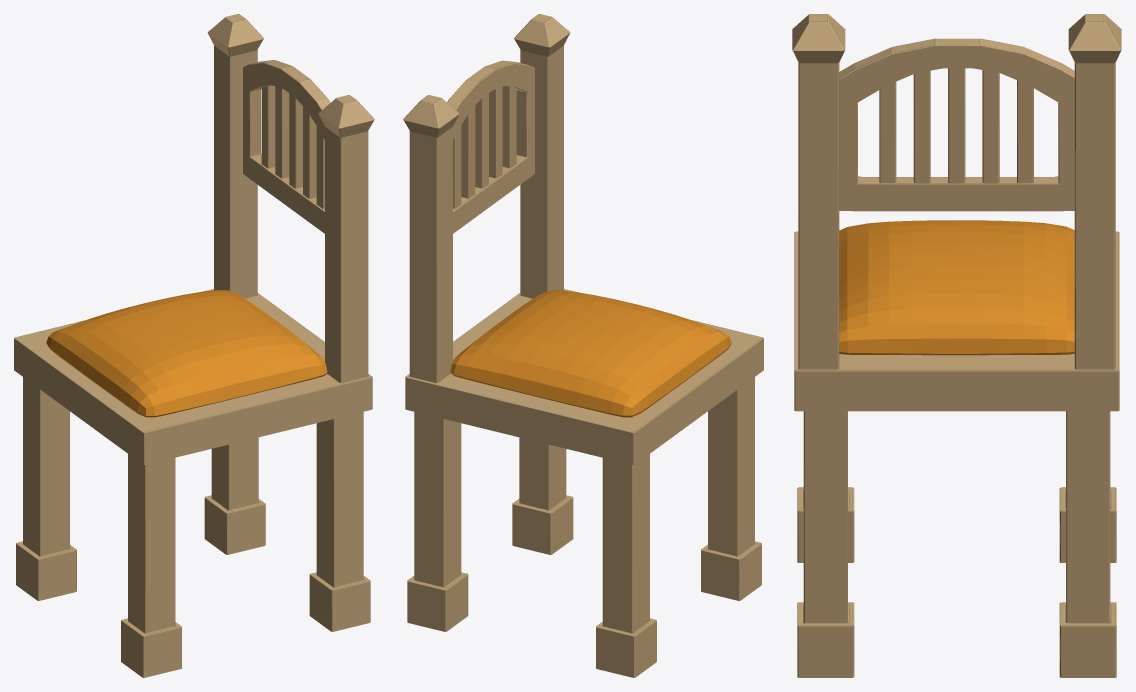
The model's file is chair_falling.glb.
The picture shows the model from 3 angles, left to right: view 1: azimuth 30°, elevation 25°; view 2: azimuth 150°, elevation 25°; view 3: azimuth 270°, elevation 25°; orthographic projection. The views are drawn at different scales.
Visible parts, largest first — view 1: Chair; view 2: Chair; view 3: Chair.
Boxes of the visible parts, box(x1,y1,x2,y2) form: Chair: box(14, 14, 374, 677); Chair: box(403, 14, 763, 677); Chair: box(792, 14, 1121, 677).
Bounding box in the file's own units: 0.8428 × 1.82 × 0.834.
